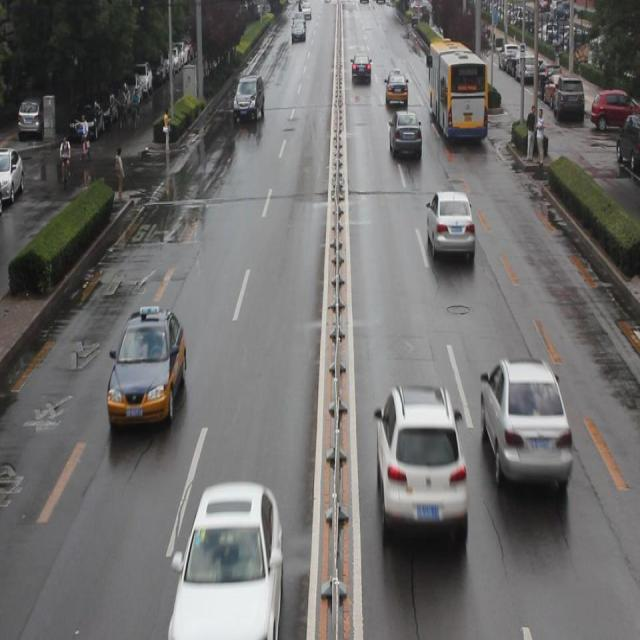car: (170, 479, 279, 630), (374, 385, 466, 551), (478, 356, 571, 495), (110, 307, 184, 425), (425, 191, 474, 262), (389, 110, 422, 160)
truck: (235, 74, 265, 124)
van: (428, 42, 486, 145)
